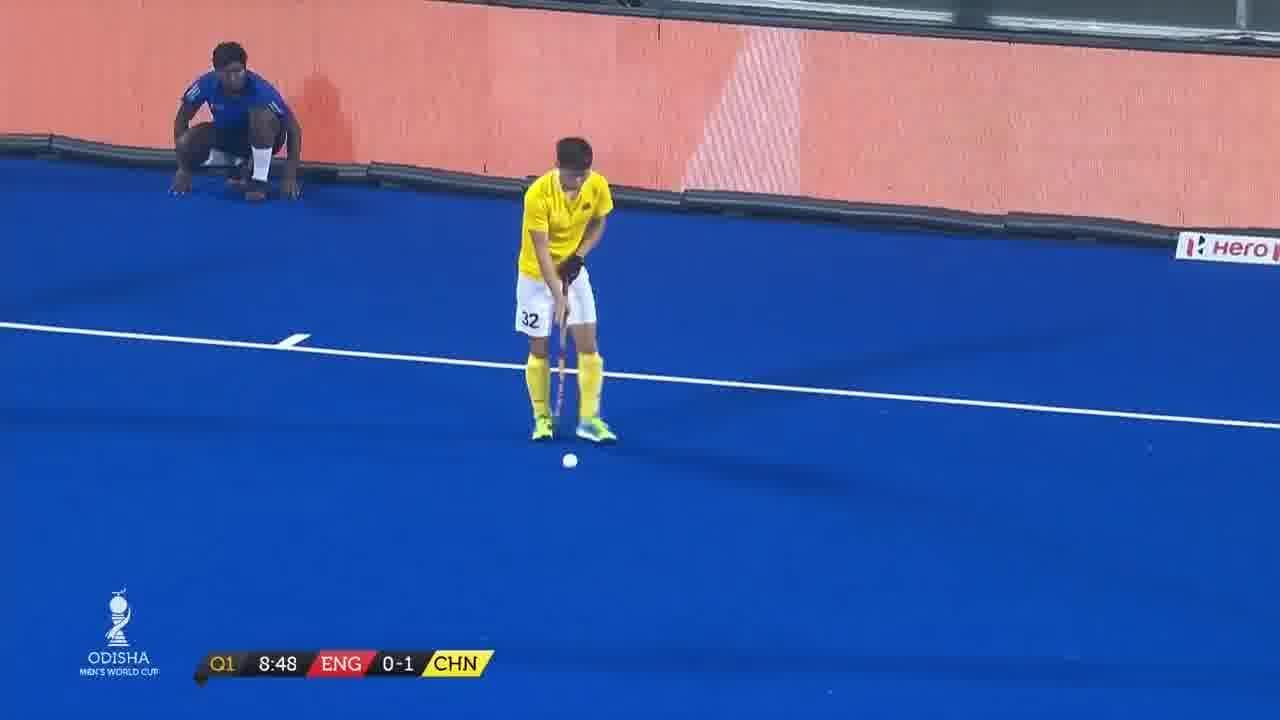ball: (555, 445, 584, 474)
